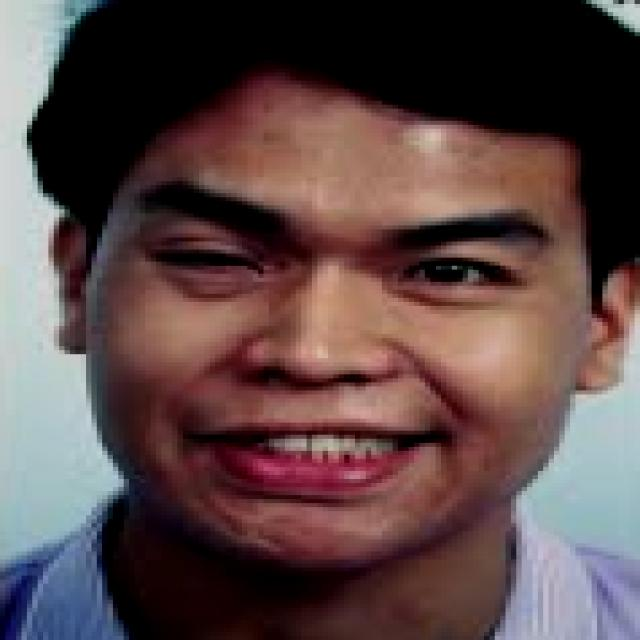stroke_face: (70, 32, 588, 575)
